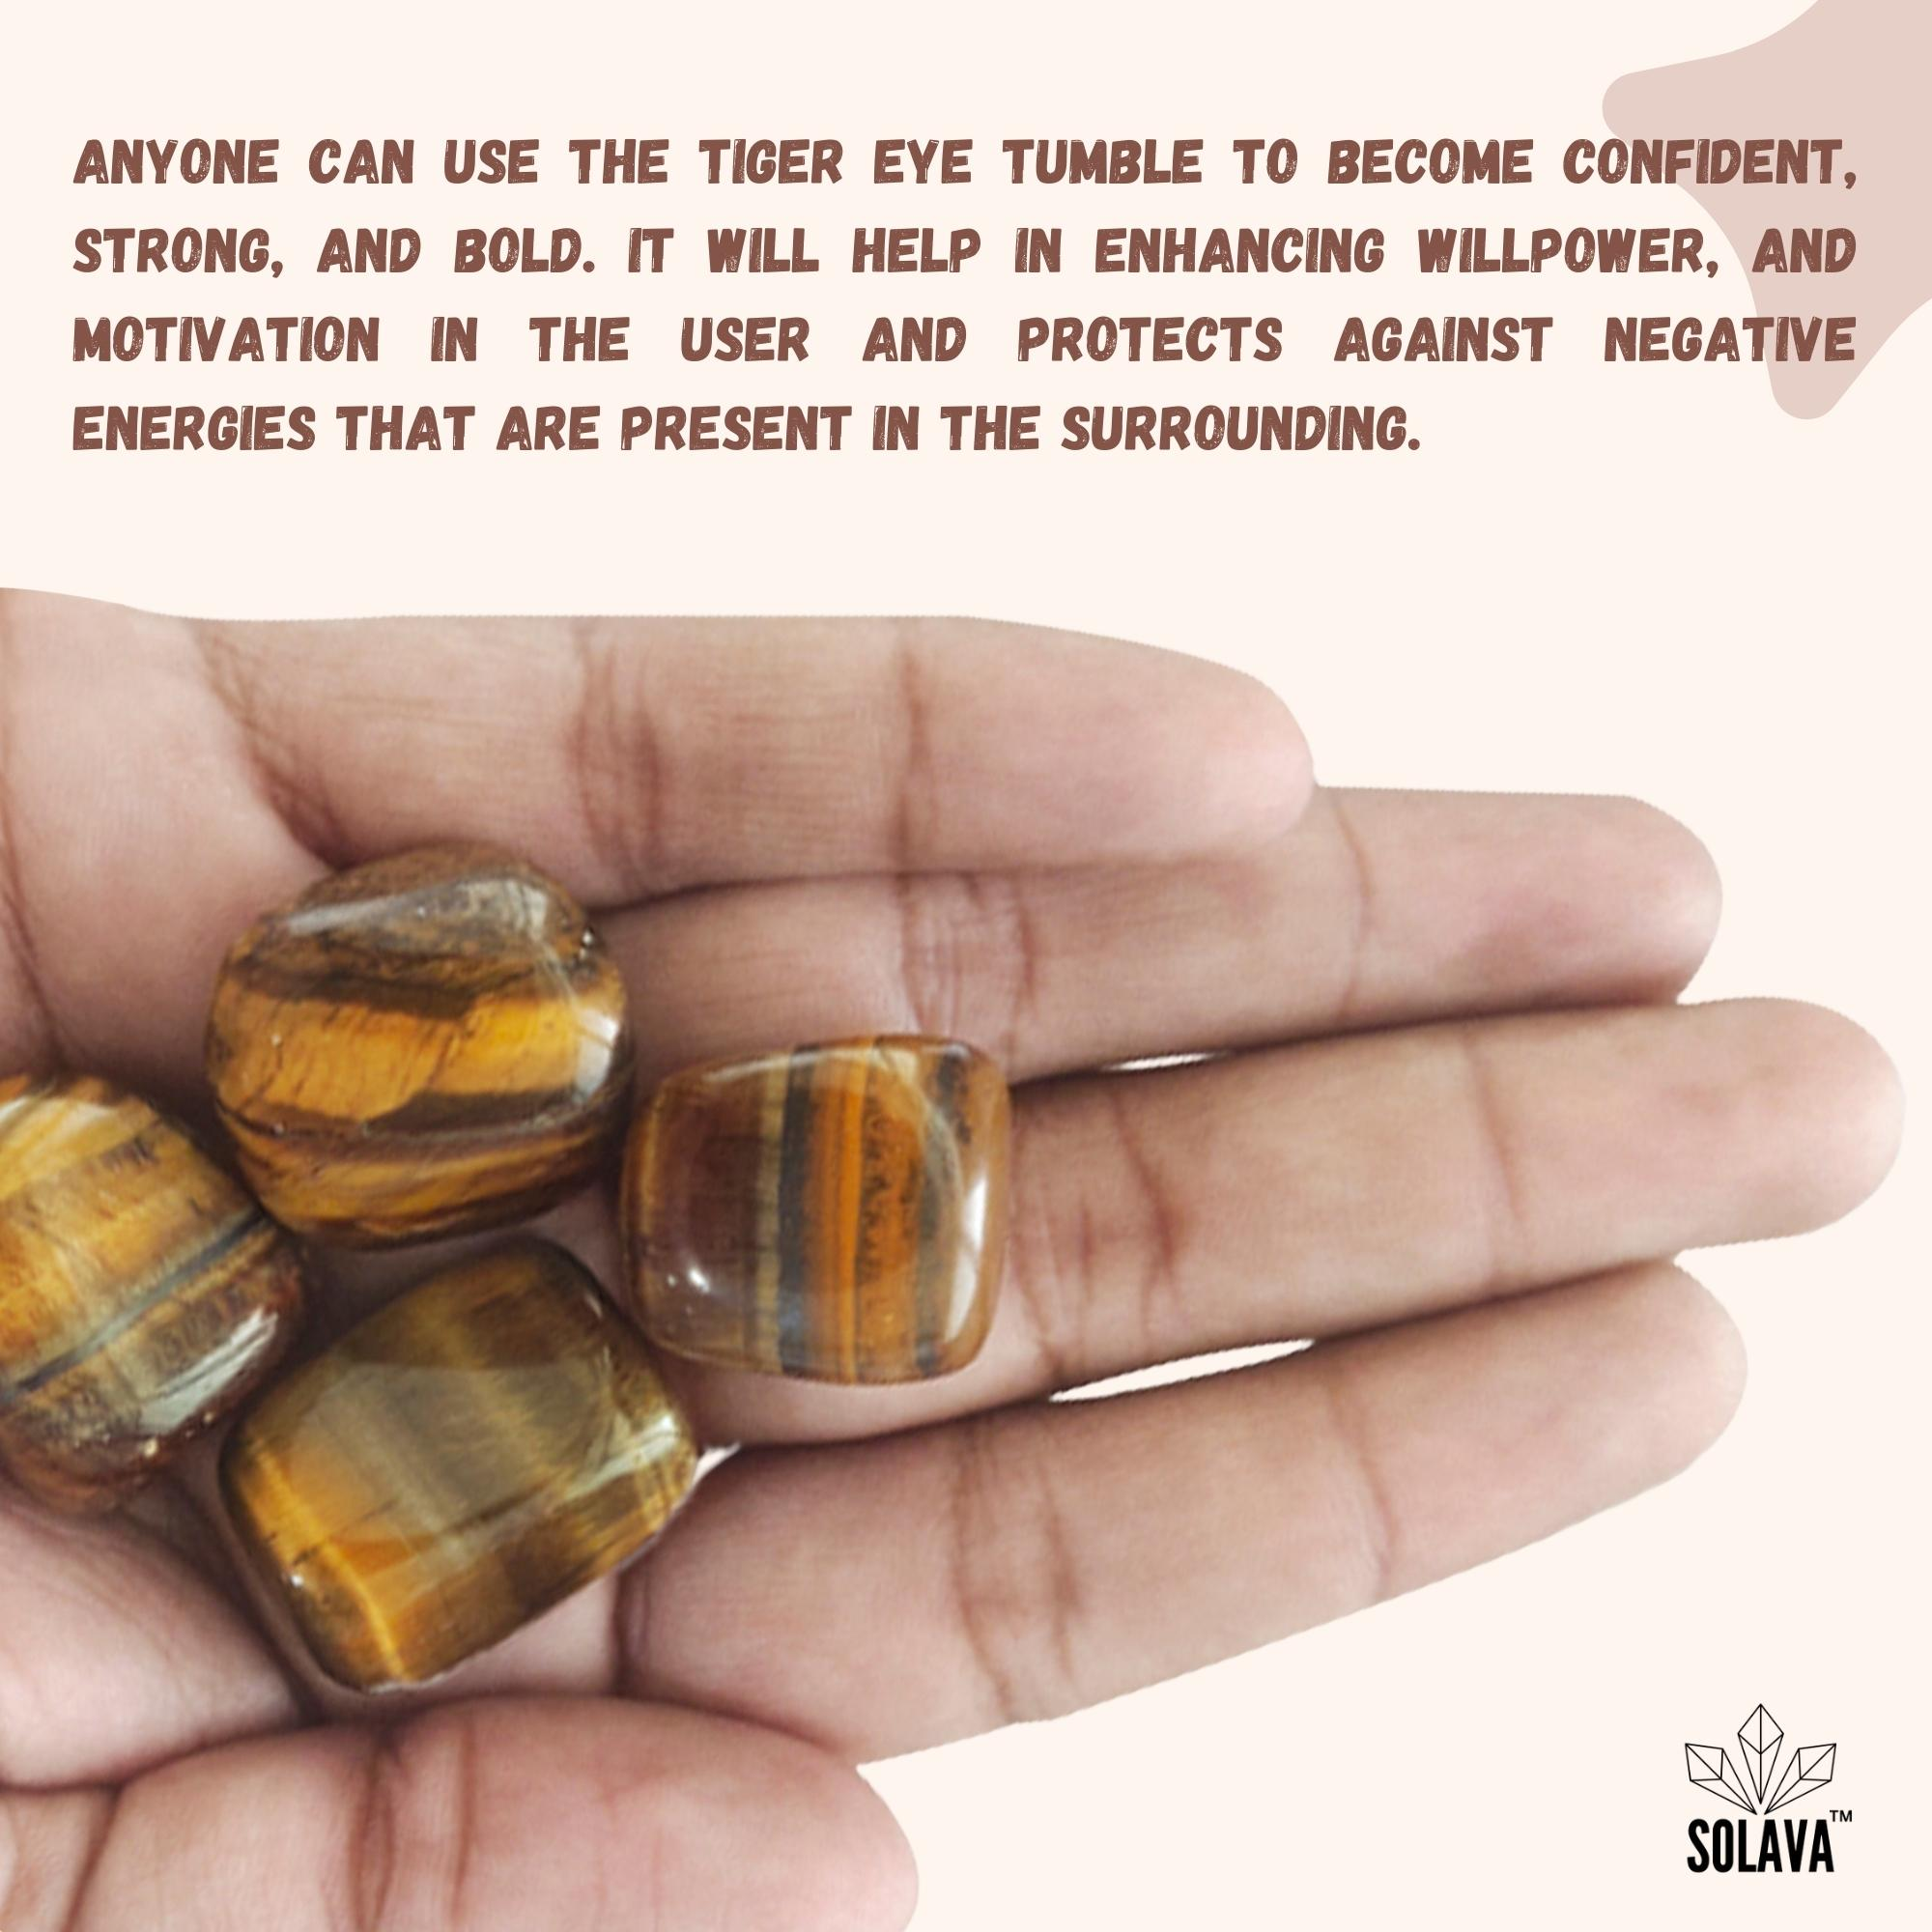Tigers_Eye: (203, 803, 644, 1256), (628, 993, 1035, 1407)
